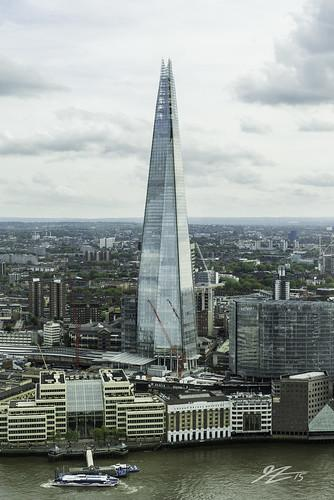building: (130, 54, 204, 374)
